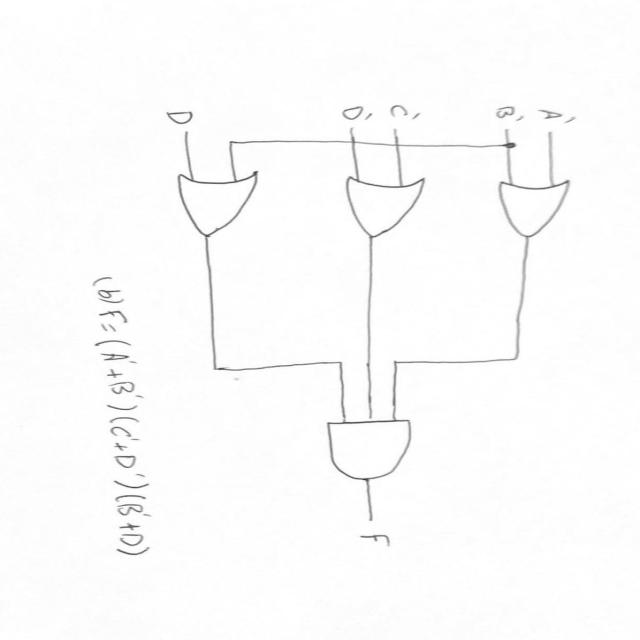AND: (314, 414, 440, 488)
OR: (159, 163, 274, 250), (329, 164, 438, 246), (480, 171, 586, 250)
